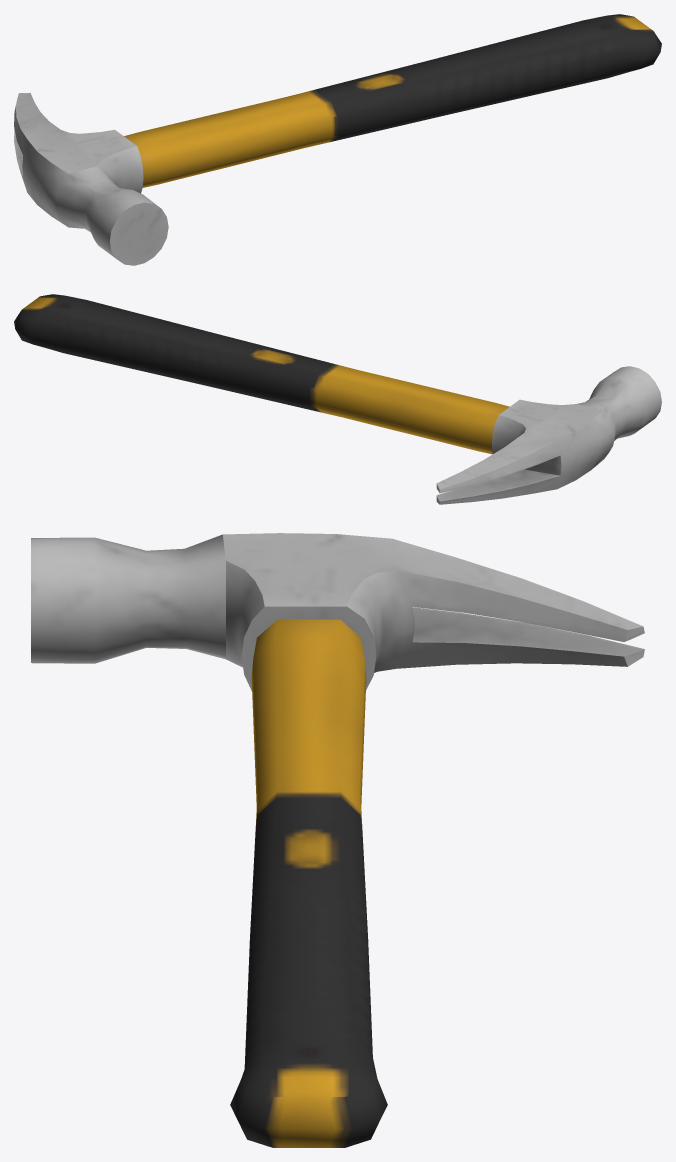
The model's file is SM_Hammer.fbx.
3 views of the same model, one above another, from view 1: azimuth 30°, elevation 25°; view 2: azimuth 150°, elevation 25°; view 3: azimuth 270°, elevation 25° (orthographic). The views are drawn at different scales.
Parts seen in each view (by area): view 1: SM_Hammer_LOD0; view 2: SM_Hammer_LOD0; view 3: SM_Hammer_LOD0.
Boxes of the visible parts, x1,y1,x2,y2 form: SM_Hammer_LOD0: [14, 14, 661, 265]; SM_Hammer_LOD0: [14, 294, 661, 504]; SM_Hammer_LOD0: [31, 533, 644, 1147].
Bounding box in the file's own units: 27.89 × 13.01 × 2.68.
